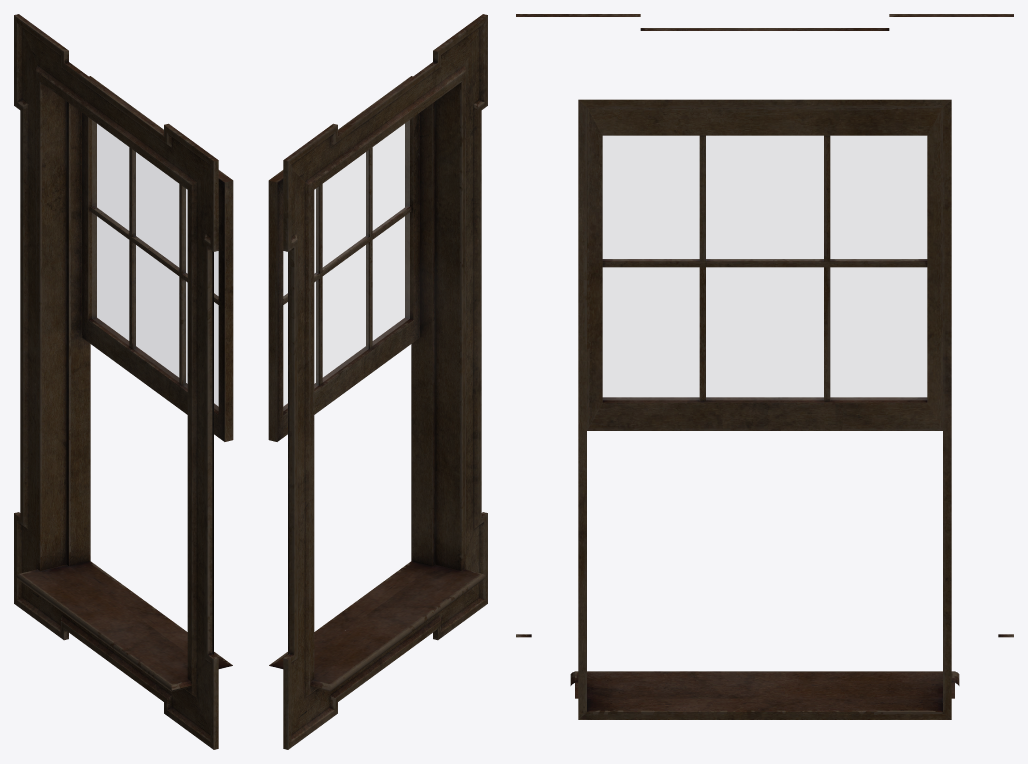
The model's file is Mesh_Window_Frame_01.gltf.
The picture shows the model from 3 angles, left to right: view 1: azimuth 30°, elevation 25°; view 2: azimuth 150°, elevation 25°; view 3: azimuth 270°, elevation 25°; orthographic projection. The views are drawn at different scales.
Parts seen in each view (by area): view 1: Mesh_Window_Frame_01; view 2: Mesh_Window_Frame_01; view 3: Mesh_Window_Frame_01.
Part boxes in pixels (box(x1,y1,x2,y2)): Mesh_Window_Frame_01: box(14, 14, 233, 749); Mesh_Window_Frame_01: box(268, 14, 487, 749); Mesh_Window_Frame_01: box(516, 14, 1013, 719).
Size of the model in its own units: 0.3154 by 2.6 by 1.6.
Materials: 2 (1 with a texture image).
